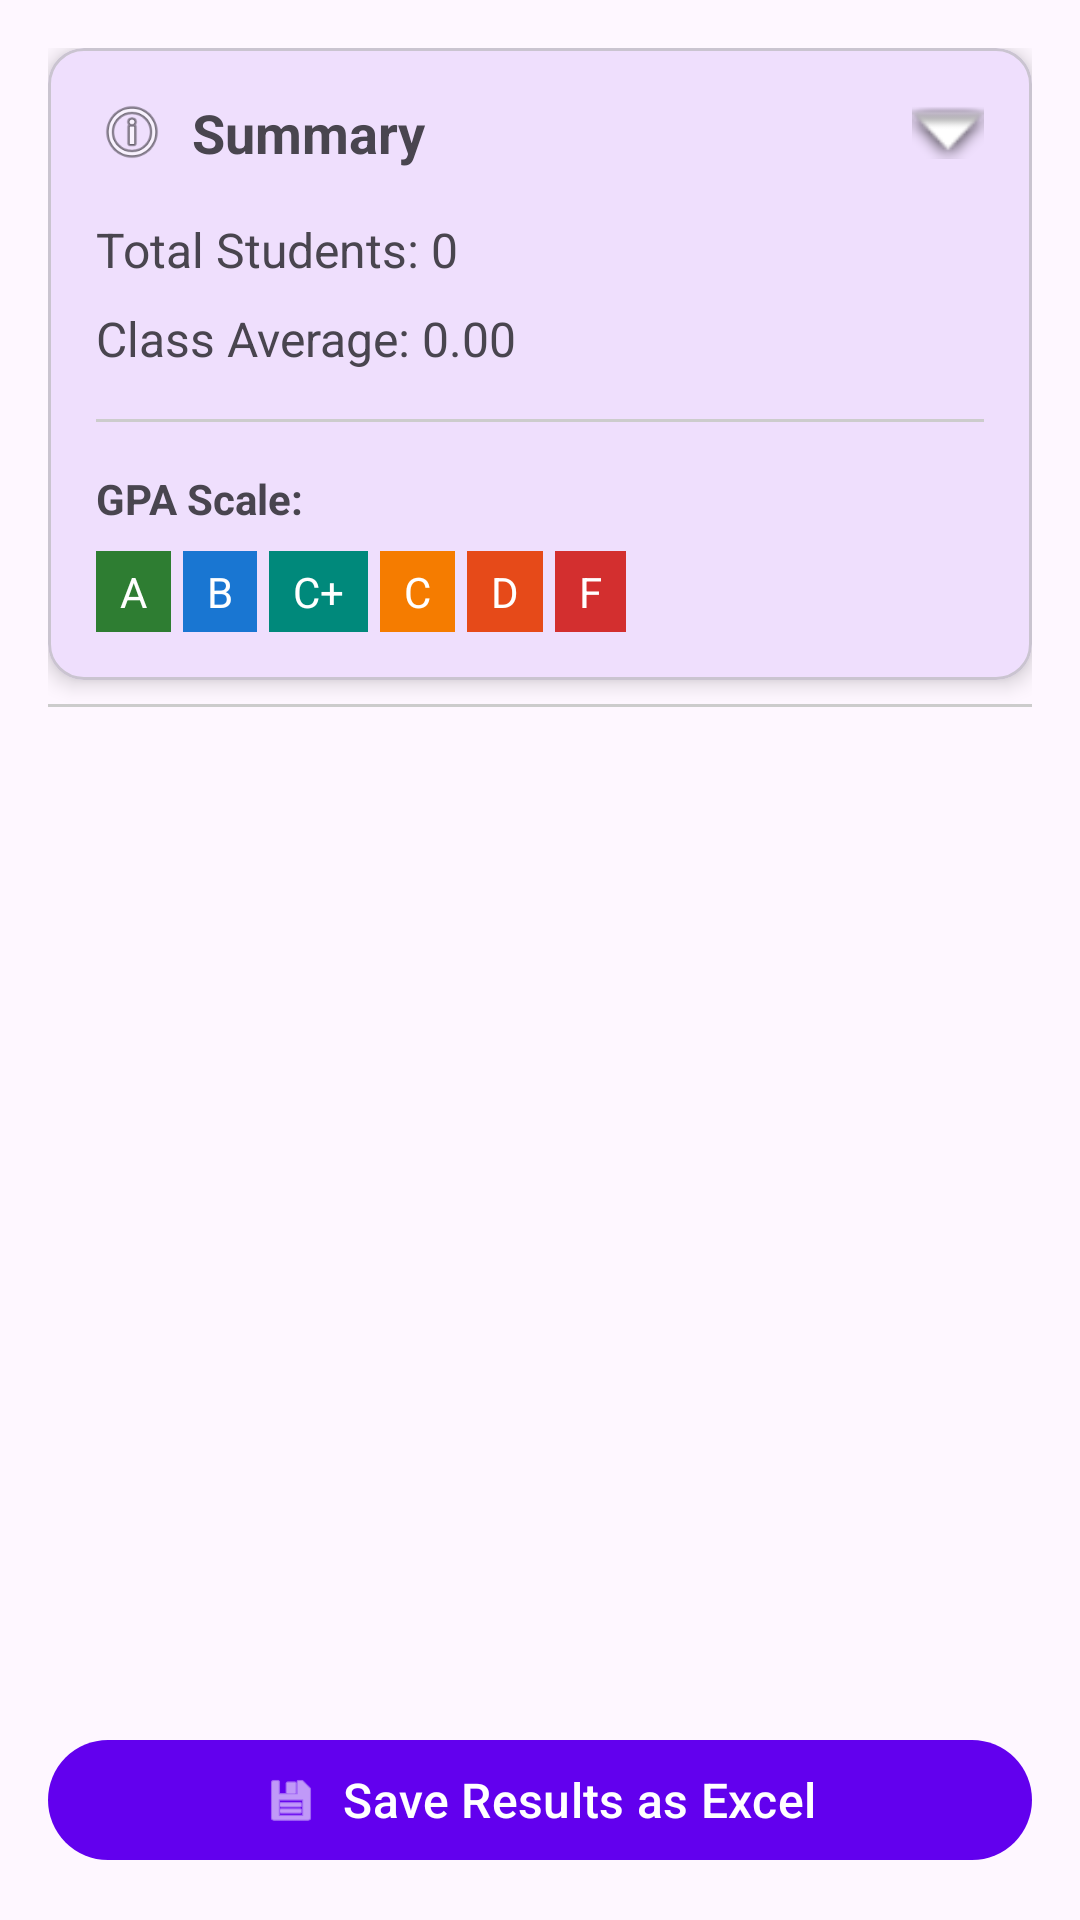

Where to tap for icons on this 1080*1920 app screen, as (x,y):
arrow down float: (948,132)
info details: (132,132)
